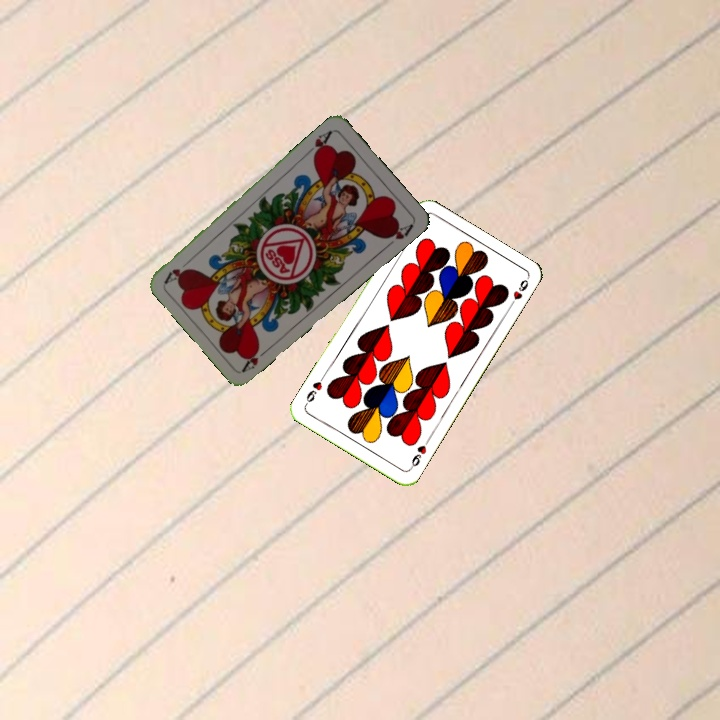H9: (405, 435, 432, 472)
HA: (302, 126, 335, 160), (239, 343, 273, 374)
